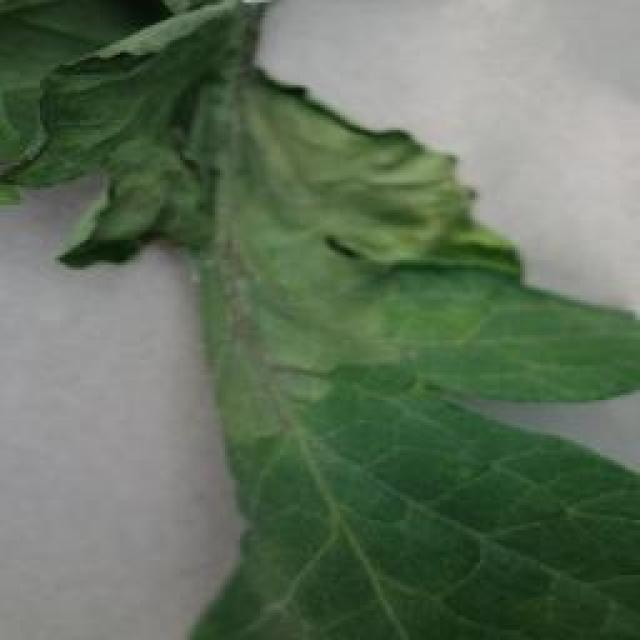Tomato Late Blight: (175, 103, 457, 407)
